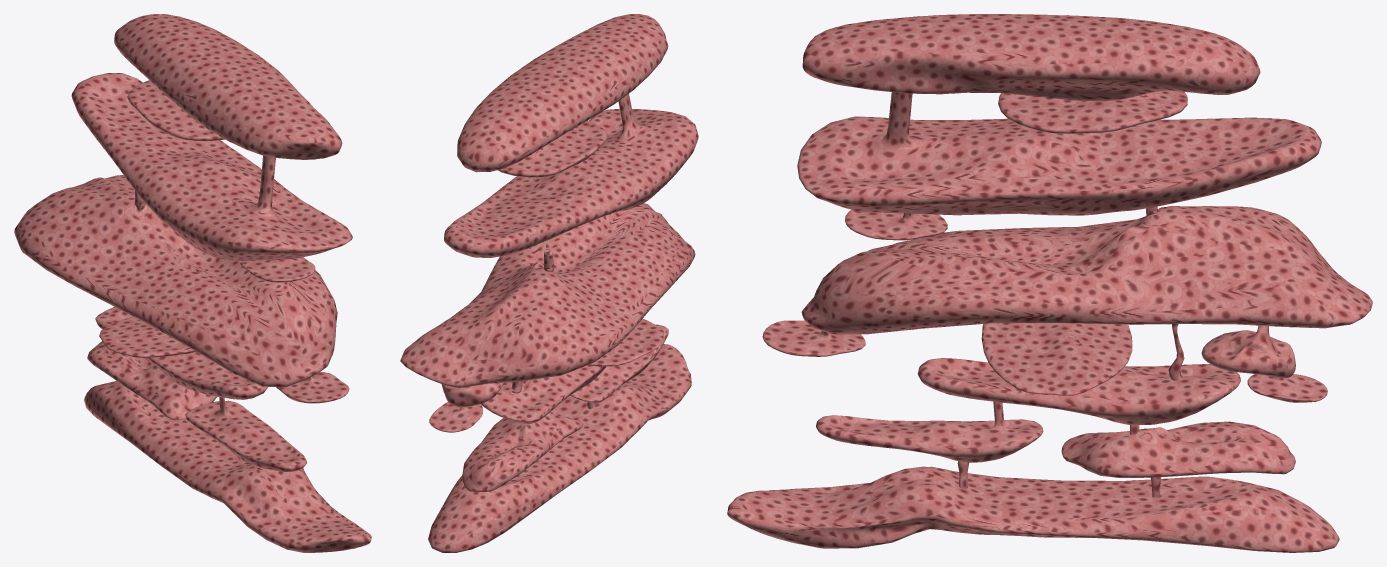
File: [2.0]Retículo Endoplasmático Rugoso.obj
3 views of the same model, side by side, from view 1: azimuth 30°, elevation 25°; view 2: azimuth 150°, elevation 25°; view 3: azimuth 270°, elevation 25° (orthographic). The views are drawn at different scales.
Visible parts, largest first — view 1: Sphere_Sphere.003; view 2: Sphere_Sphere.003; view 3: Sphere_Sphere.003.
Boxes of the visible parts, x1,y1,x2,y2 form: Sphere_Sphere.003: (14,14,371,552); Sphere_Sphere.003: (400,14,698,552); Sphere_Sphere.003: (727,14,1372,552).
Bounding box in the file's own units: 1.24 × 2.55 × 2.9.
